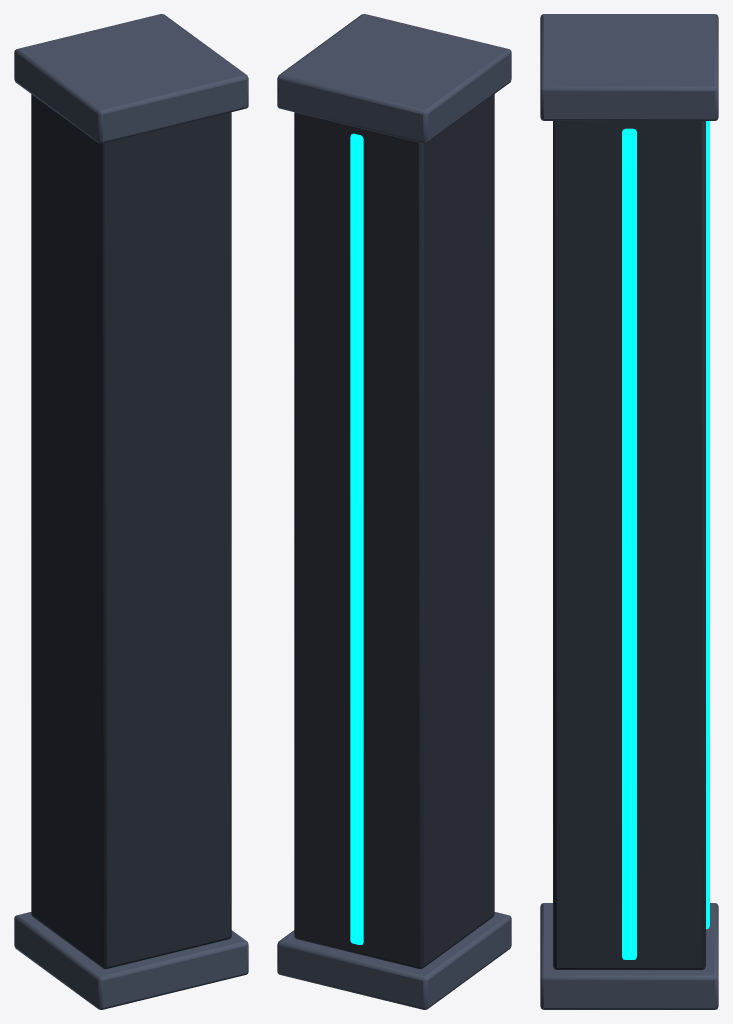
Rendered from pillar.glb.
3 renders of one model, left to right at view 1: azimuth 30°, elevation 25°; view 2: azimuth 150°, elevation 25°; view 3: azimuth 270°, elevation 25°, orthographic. The views are drawn at different scales.
Visible parts, largest first — view 1: pillar; view 2: pillar; view 3: pillar.
Boxes of the visible parts, left/top/right/bottom form: pillar: left=14, top=14, right=248, bottom=1009; pillar: left=277, top=14, right=511, bottom=1009; pillar: left=540, top=14, right=718, bottom=1009.
Bounding box in the file's own units: 0.7 × 4 × 0.7.
